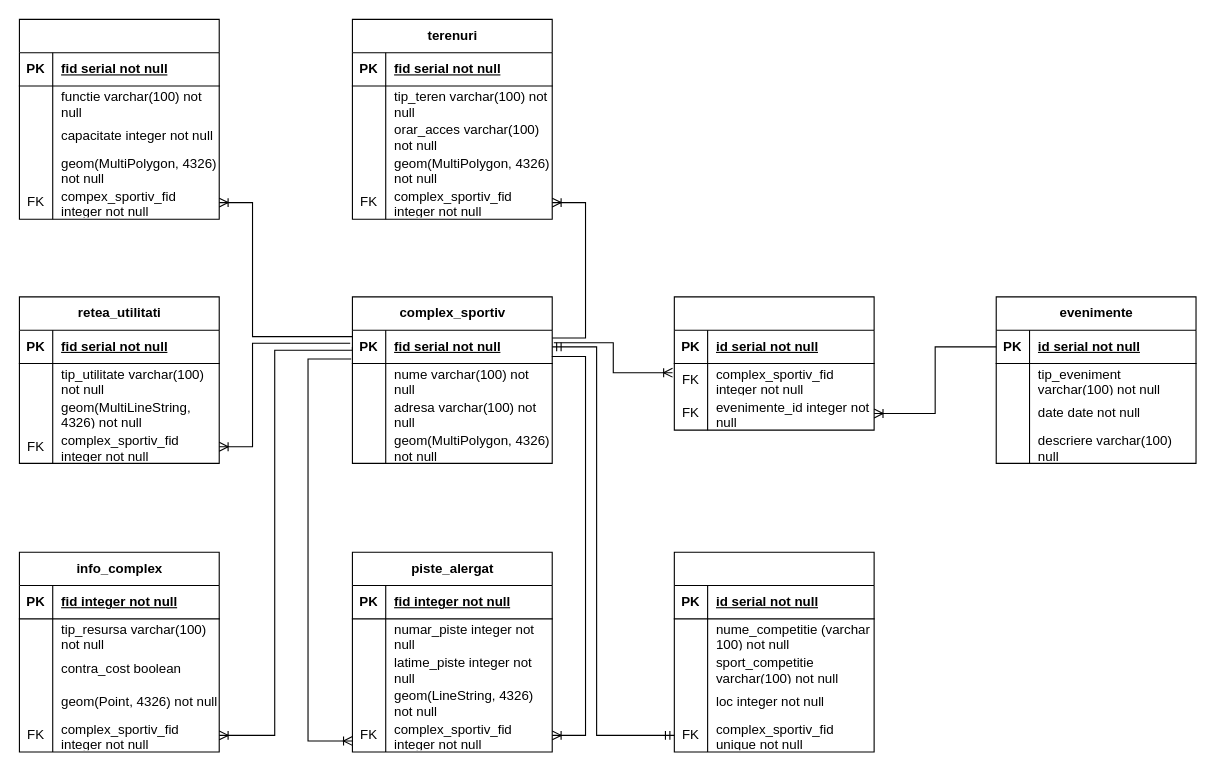
Image size: 1215x771. Some labels were removed from this diagram. Each missing label, with the box of its shape:
cladiri: (18, 18, 219, 219)
evenimente_complex: (673, 296, 874, 430)
muzeu: (673, 551, 874, 752)
